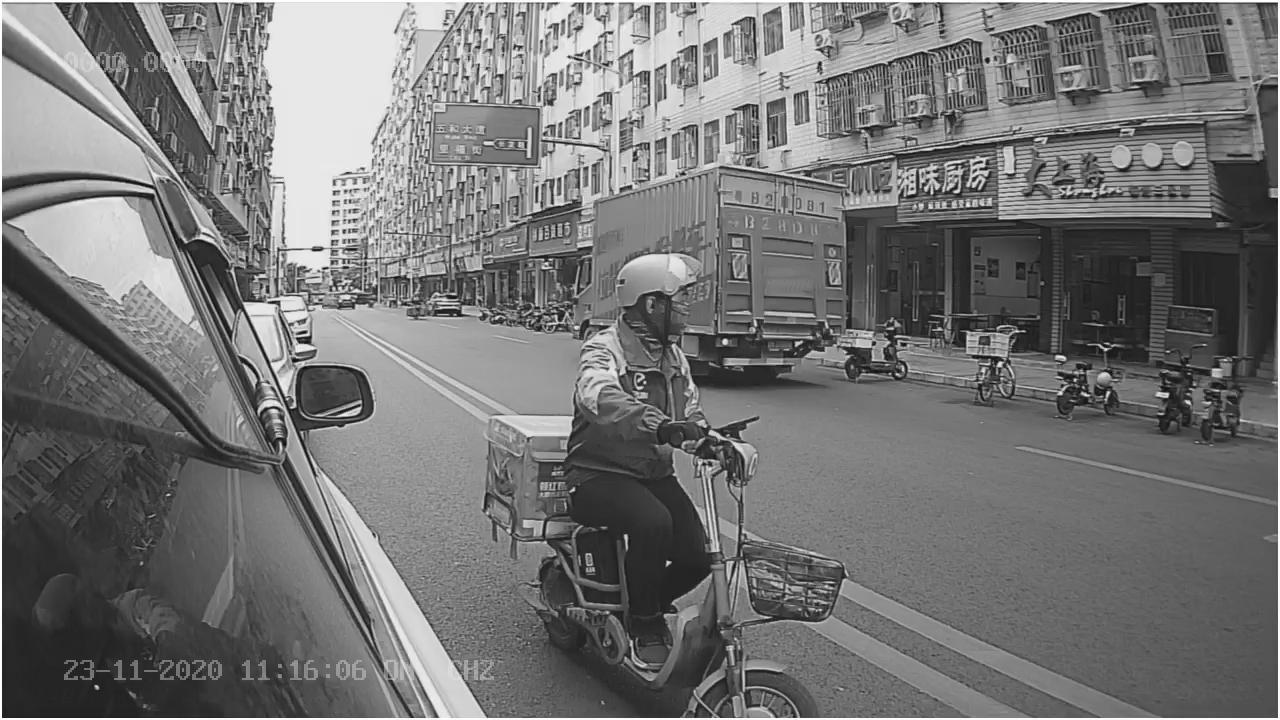person: (565, 247, 718, 420)
